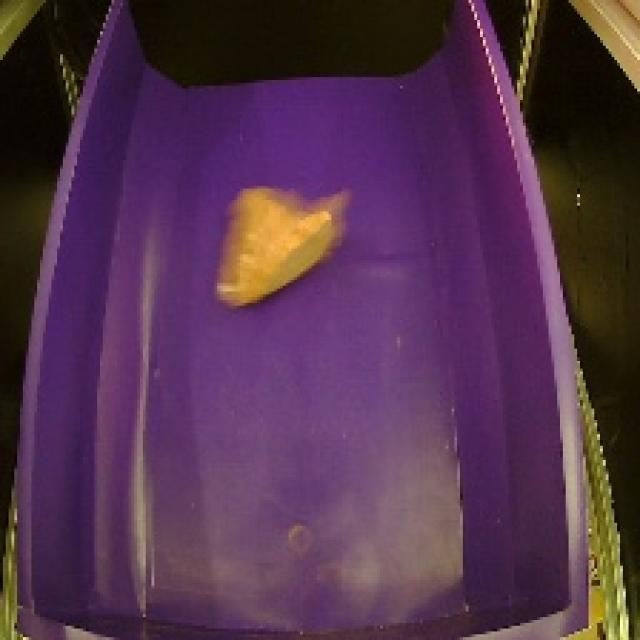brick: (210, 172, 360, 309)
